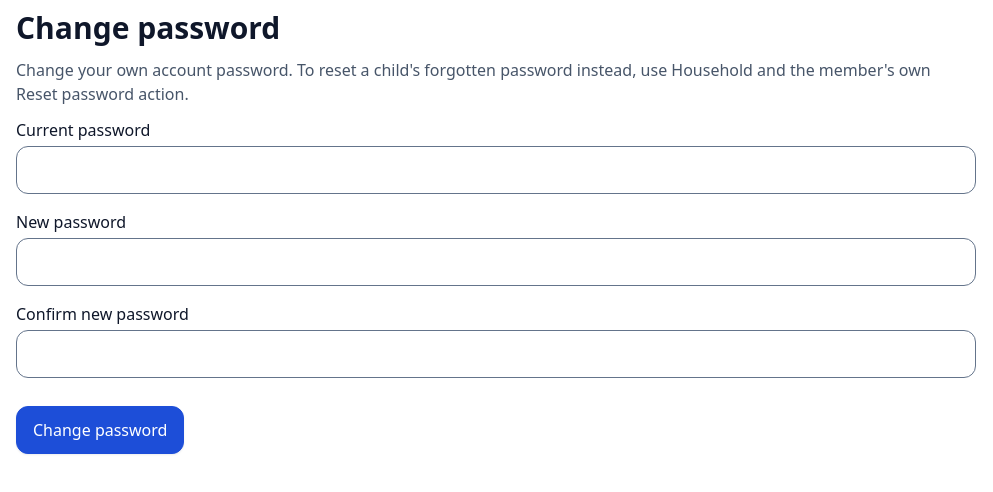
Scenario: submitting › shows a server field error verbatim and clears every secret field
Type "synthetic-only-current-password" into the password field labelled "Current password".
click(496, 170); type("synthetic-only-current-password")  # box [16,146,976,194]
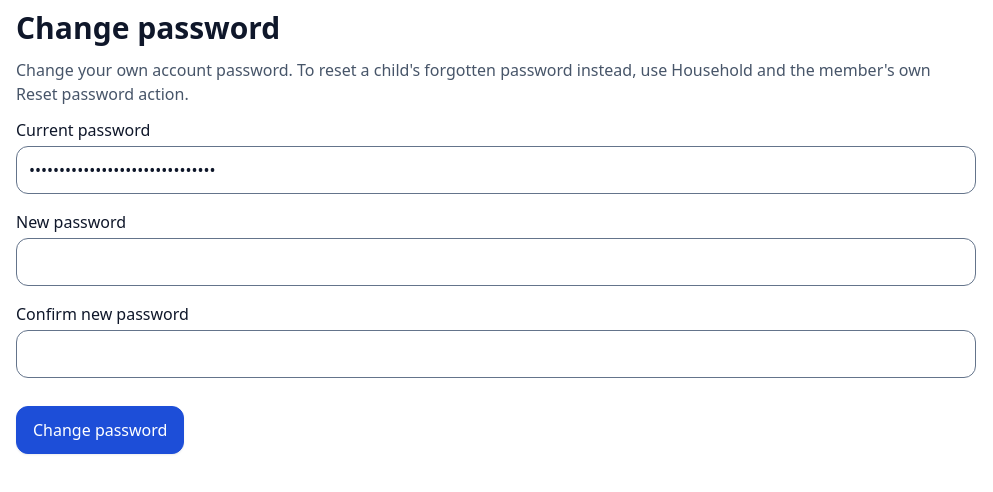
Type "a genuinely unusual passphrase 42" into the password field labelled "New password".
click(496, 262); type("a genuinely unusual passphrase 42")  # box [16,238,976,286]
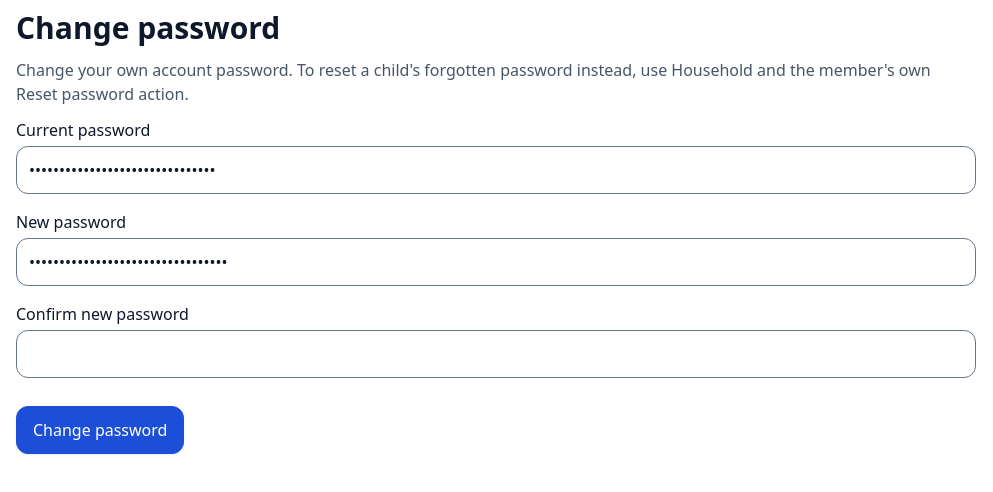
Type "a genuinely unusual passphrase 42" into the password field labelled "Confirm new password".
click(496, 354); type("a genuinely unusual passphrase 42")  # box [16,330,976,378]
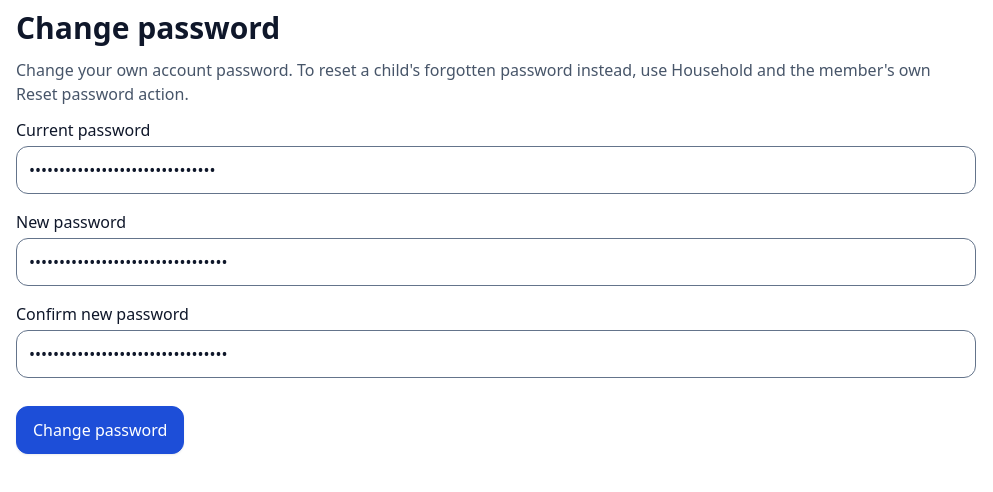
Click the button "Change password".
click(100, 430)  # box [16,406,184,454]
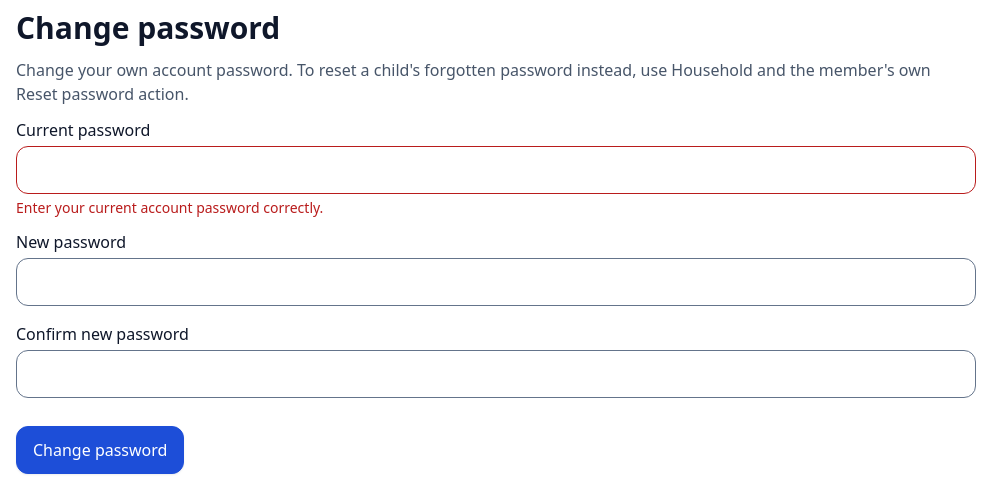
Expected: the text "Enter your current account password correctly." is shown, [16,198,323,217]
Expected: the password field labelled "Current password" is empty, [16,146,976,194]
Expected: the password field labelled "New password" is empty, [16,258,976,306]
